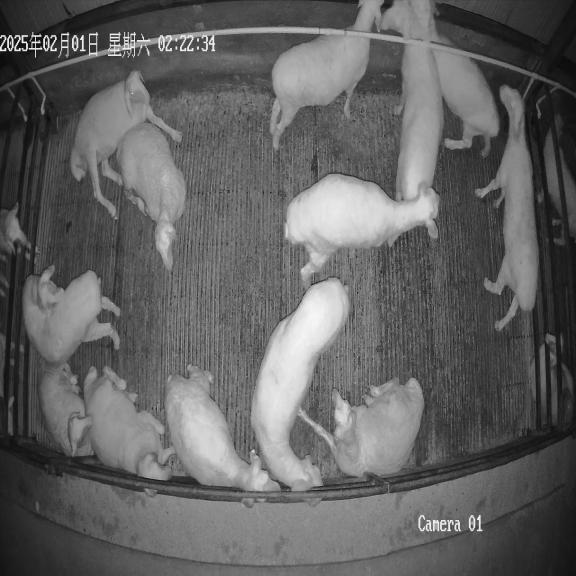lying: (70, 70, 182, 218), (298, 378, 424, 477), (116, 123, 186, 270), (84, 367, 175, 480), (38, 358, 93, 456)
stand: (251, 278, 349, 491), (284, 174, 439, 287), (269, 0, 378, 150), (475, 85, 539, 330), (164, 365, 280, 492), (412, 0, 499, 158), (380, 0, 443, 200), (22, 265, 120, 373)
